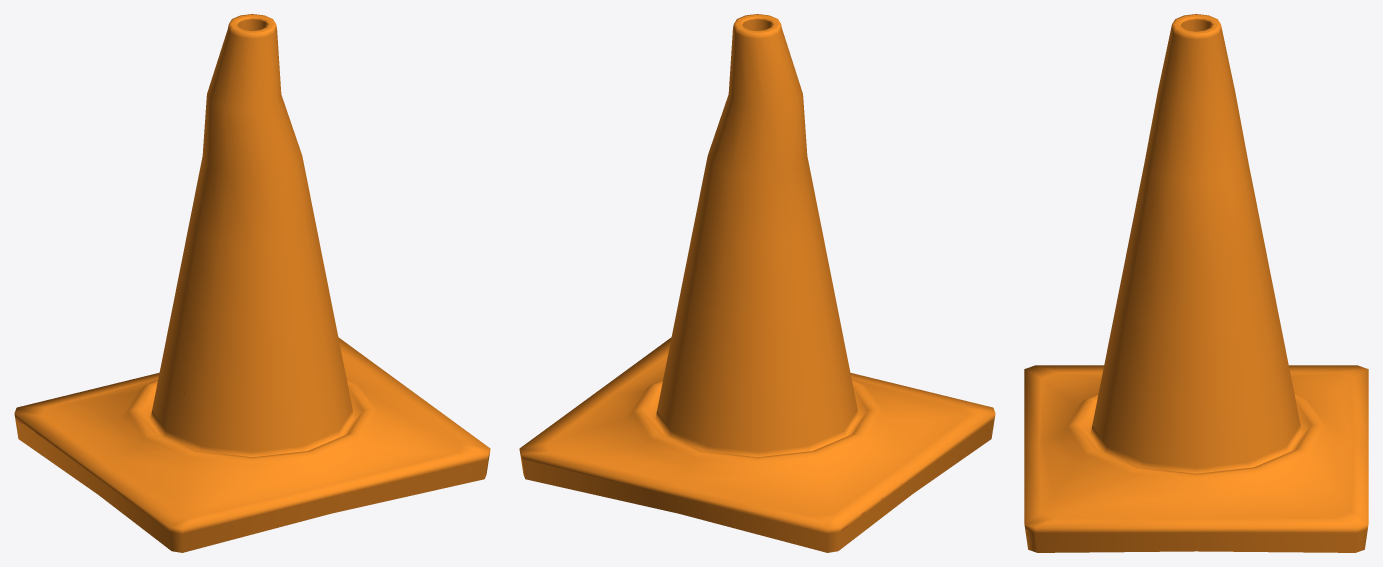
File: road cone_2.fbx
3 views of the same model, side by side, from view 1: azimuth 30°, elevation 25°; view 2: azimuth 150°, elevation 25°; view 3: azimuth 270°, elevation 25° (orthographic). The views are drawn at different scales.
Visible parts, largest first — view 1: road cone 2; view 2: road cone 2; view 3: road cone 2.
Boxes of the visible parts, x1,y1,x2,y2 form: road cone 2: (14,14,490,552); road cone 2: (519,14,995,552); road cone 2: (1024,14,1368,552).
Size of the model in its own units: 58.79 by 75.69 by 52.6.
1 material, 1 textured.
